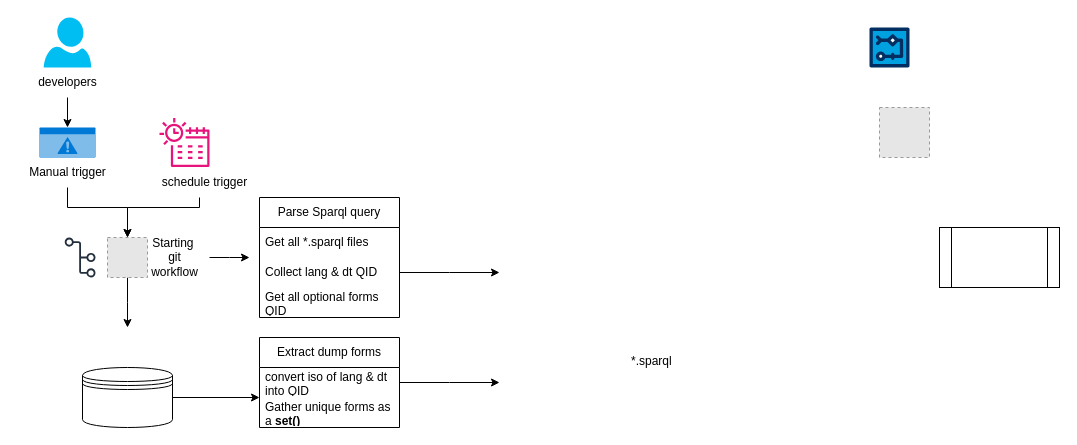
Image size: 1077x445. Some labels were removed from this diagram. Grey dashed boxes stand in for pictures. The centre of each missing label's shape, as x and y in pixels:
"Lexeme dump" goes at point 127,397.
"Warning" goes at point 67,142.
